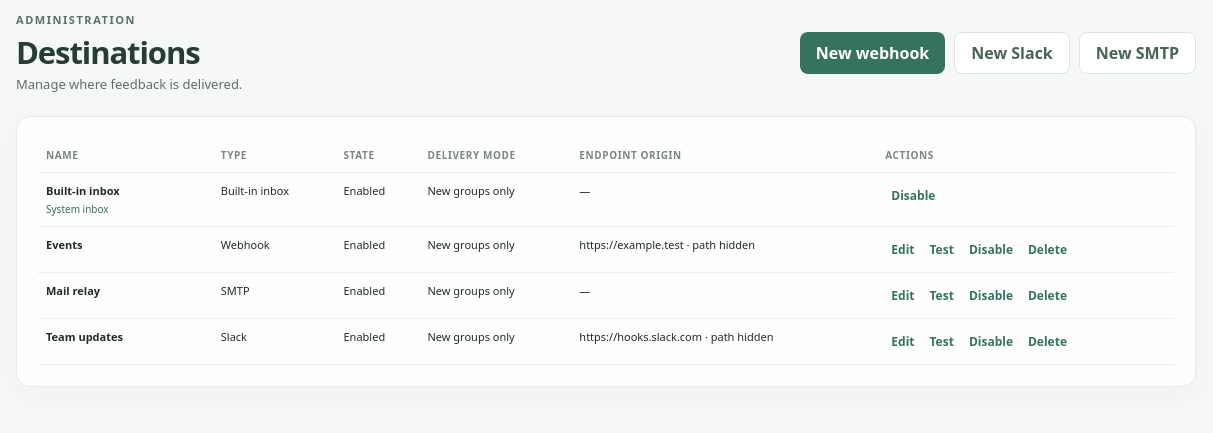
it: Destinations admin UI › shows test result category and sanitized message
Click the button "Test" in the row of "Events" at (942, 250), box left=924, top=237, right=960, bottom=262
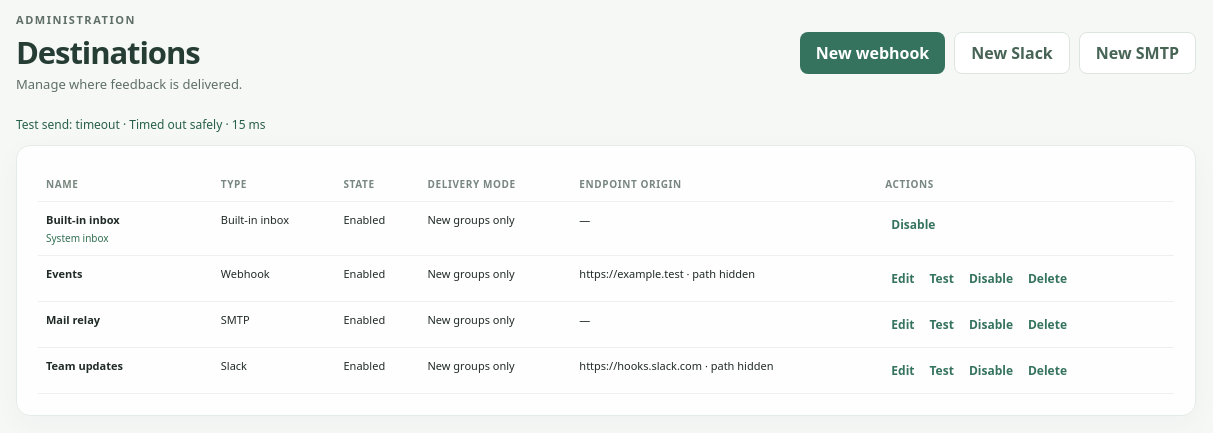
Check: the text "Test send: timeout · Timed out safely" is shown, box left=16, top=116, right=266, bottom=133
